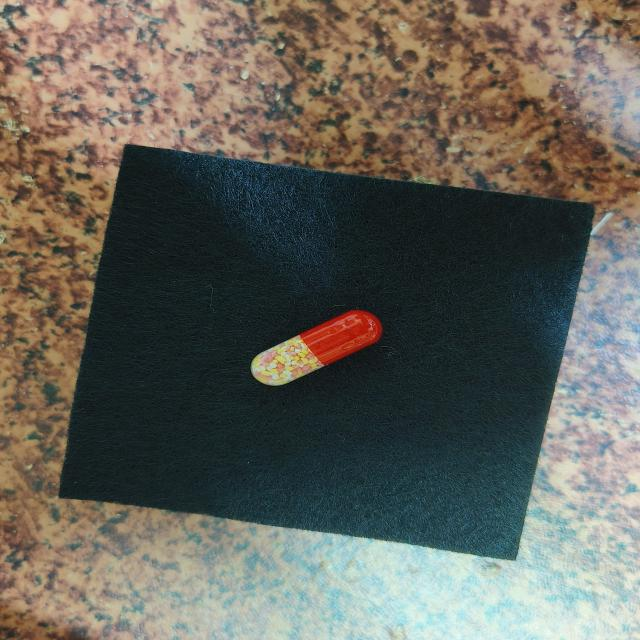Intact Capsule: (250, 310, 382, 386)
